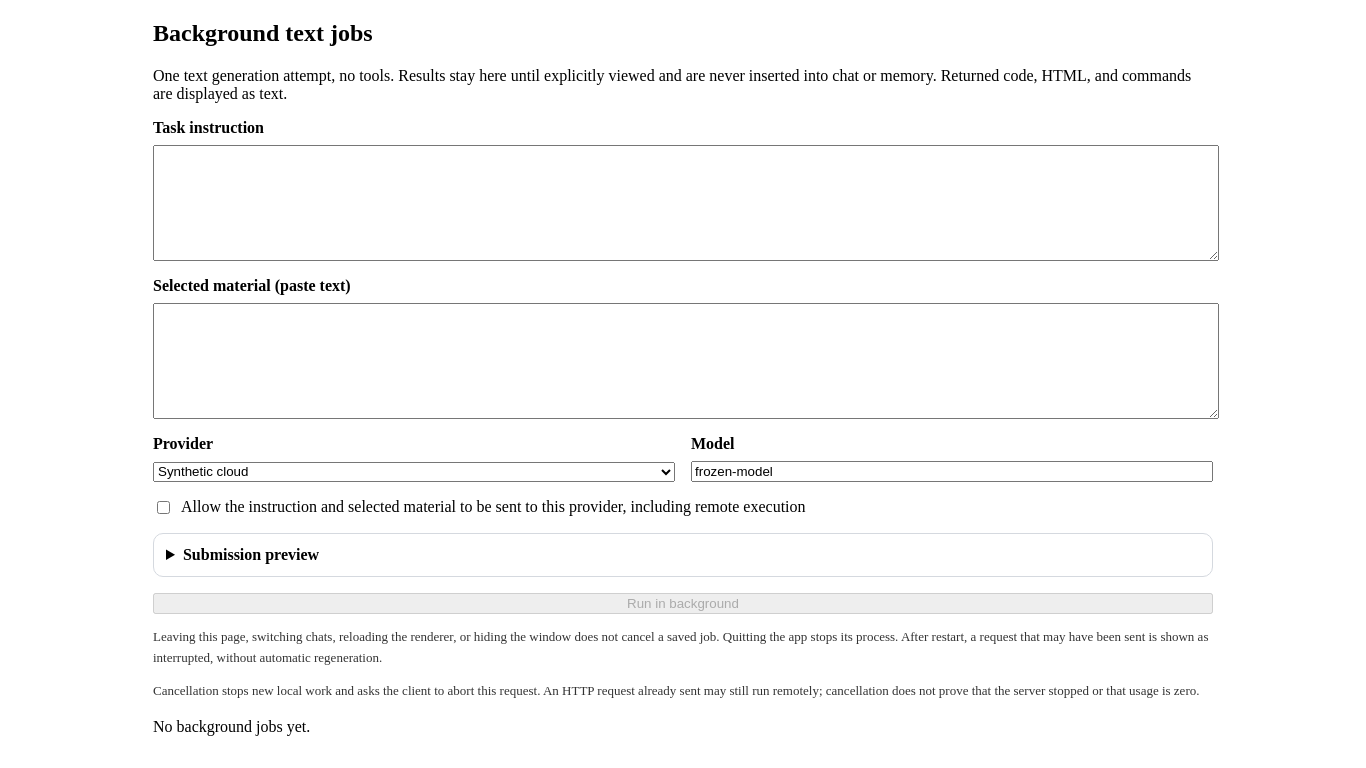
Test: background text job UI › asks for remote consent only for a cloud service and drops it when the service changes
Later steps or results of the test are not shown.
Type "SYNTHETIC_JOB_INSTRUCTION" into the text box labelled "Task instruction". click: (686, 203)
box: [153, 145, 1219, 261]
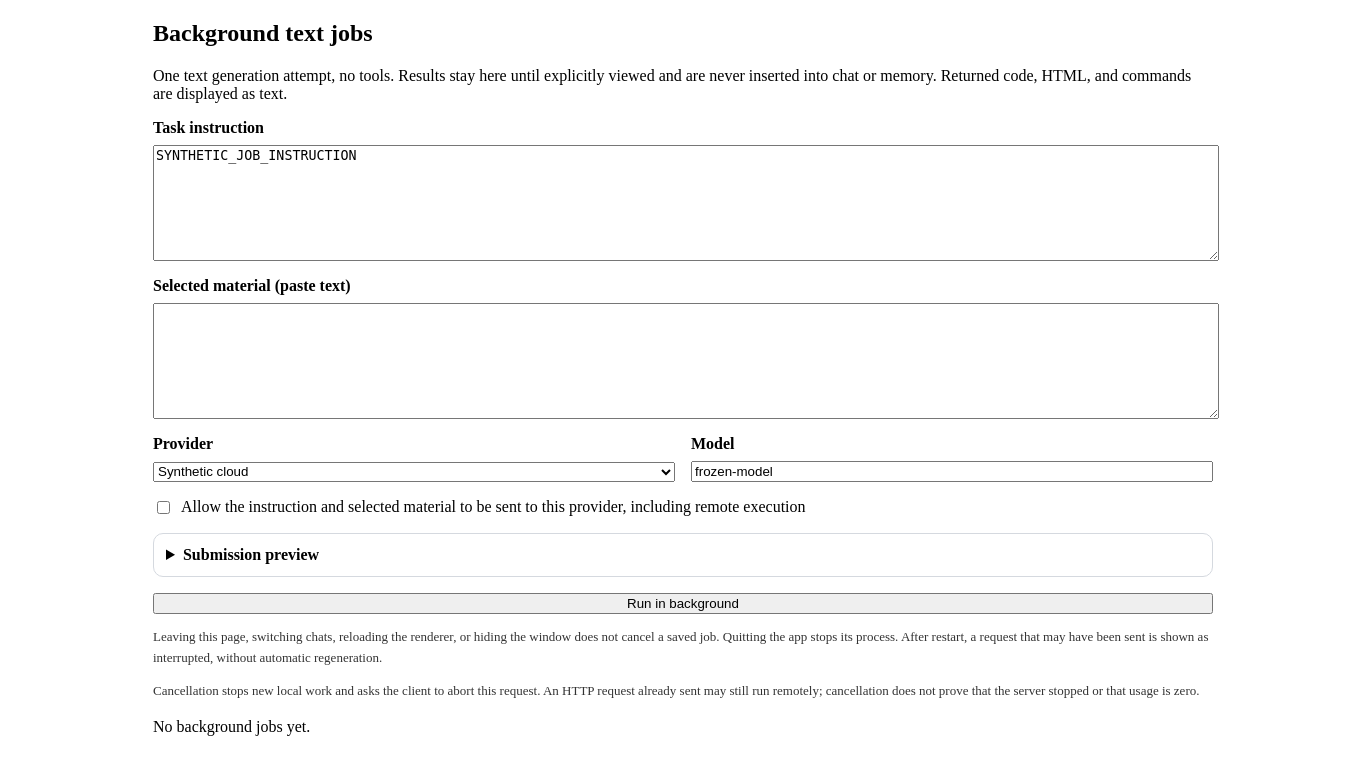
Type "ONLY_EXPLICIT_MATERIAL" into the text box labelled "Selected material (paste text)". click: (686, 361)
box: [153, 303, 1219, 419]
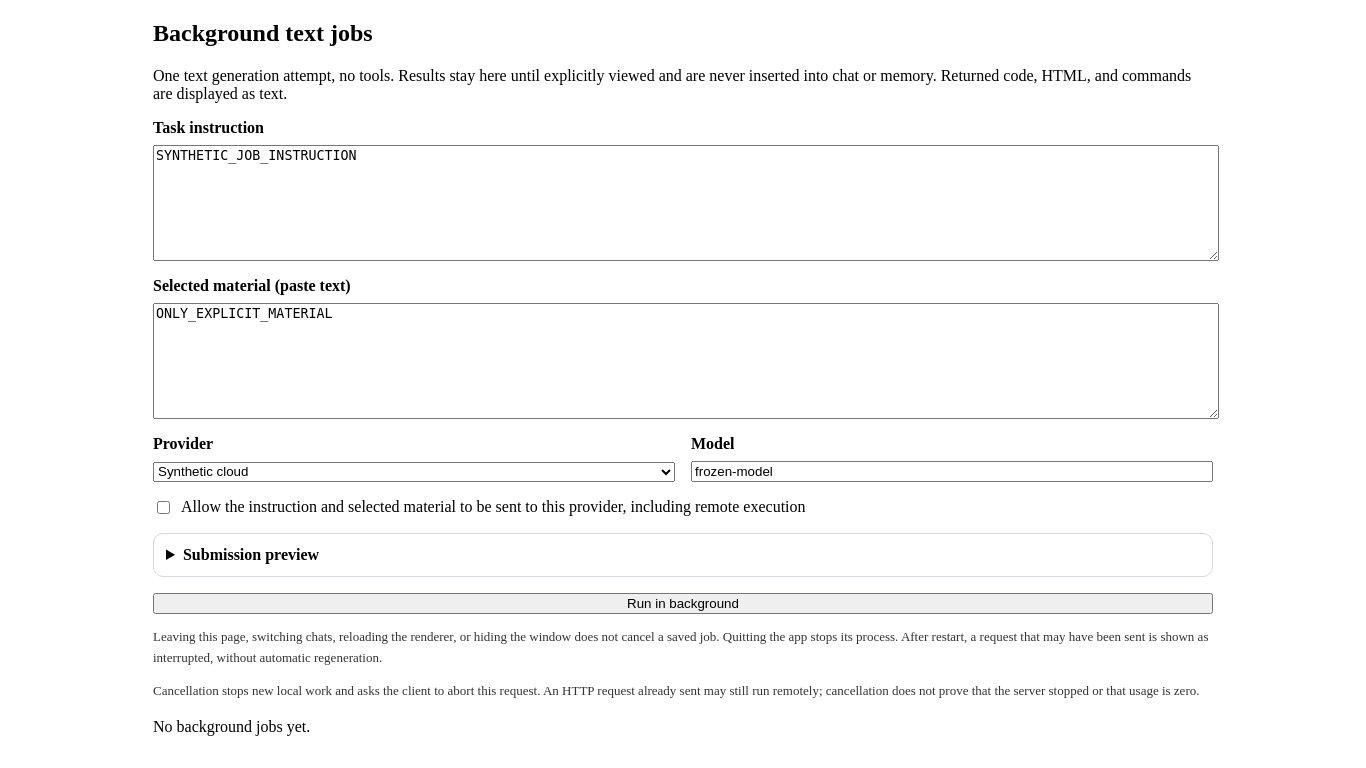
Click the checkbox. click: (164, 507)
box: [157, 501, 170, 514]
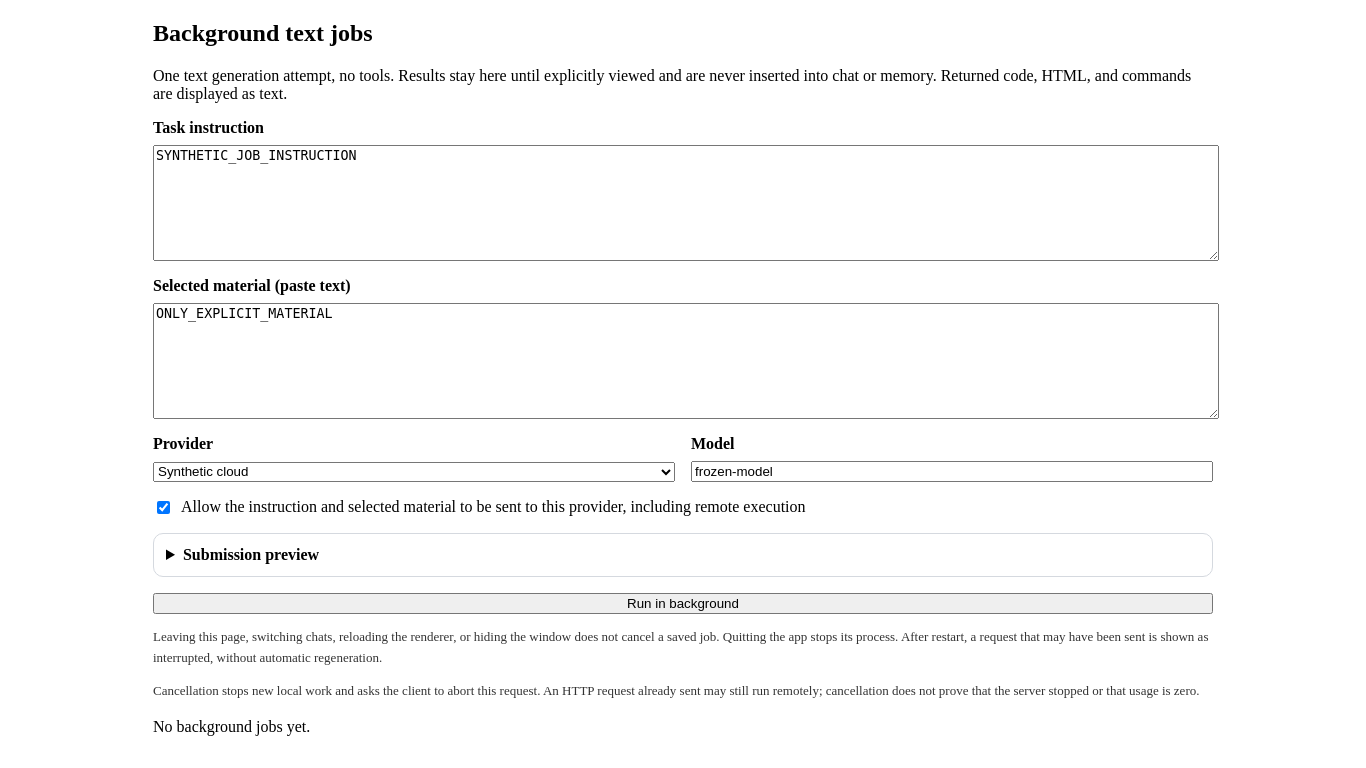
Result: the checkbox is checked at [157, 501, 170, 514]
Select "Synthetic local" in the dropdown labelled "Provider". click: (414, 472)
box: [153, 462, 675, 482]
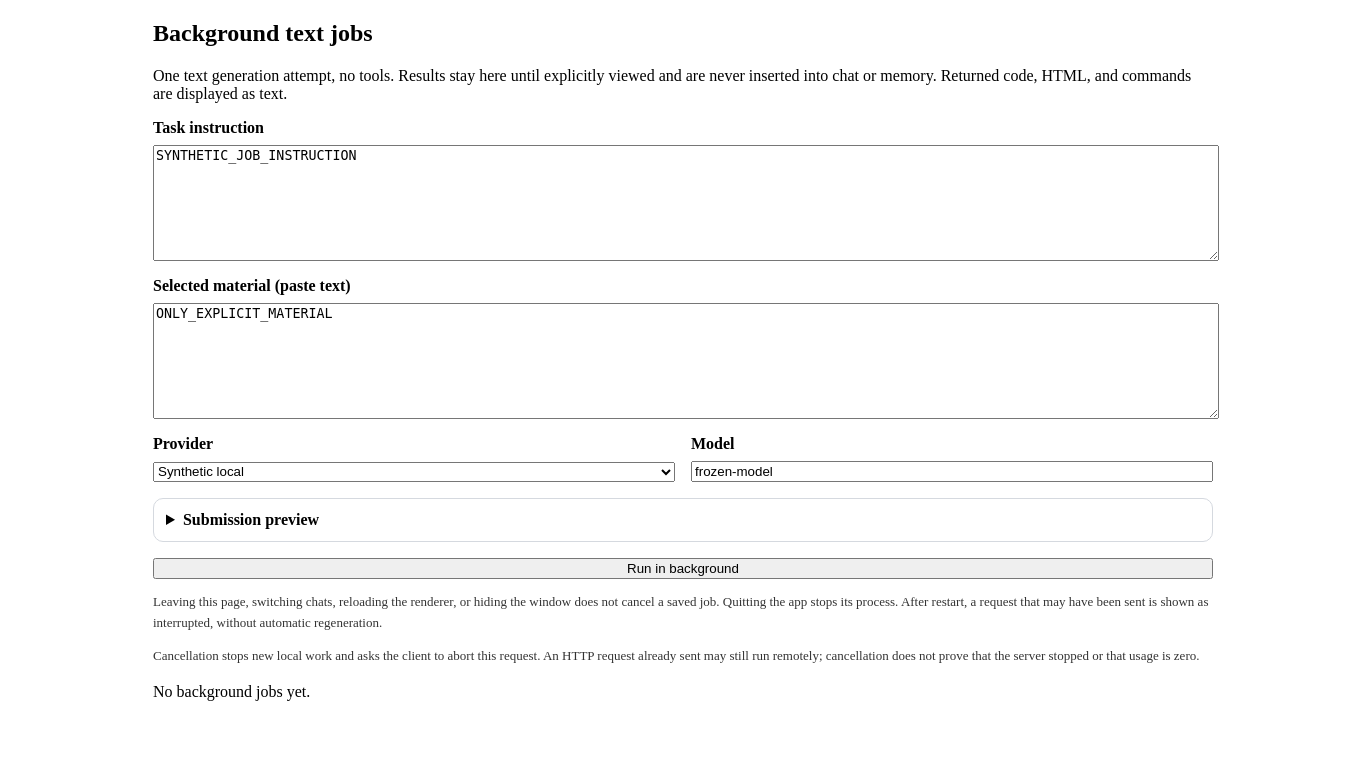
Result: the checkbox is gone
